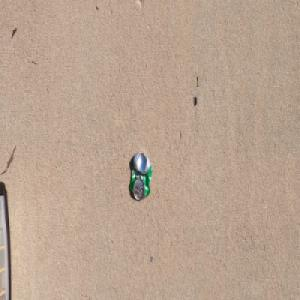SodaCan: (129, 151, 153, 201)
